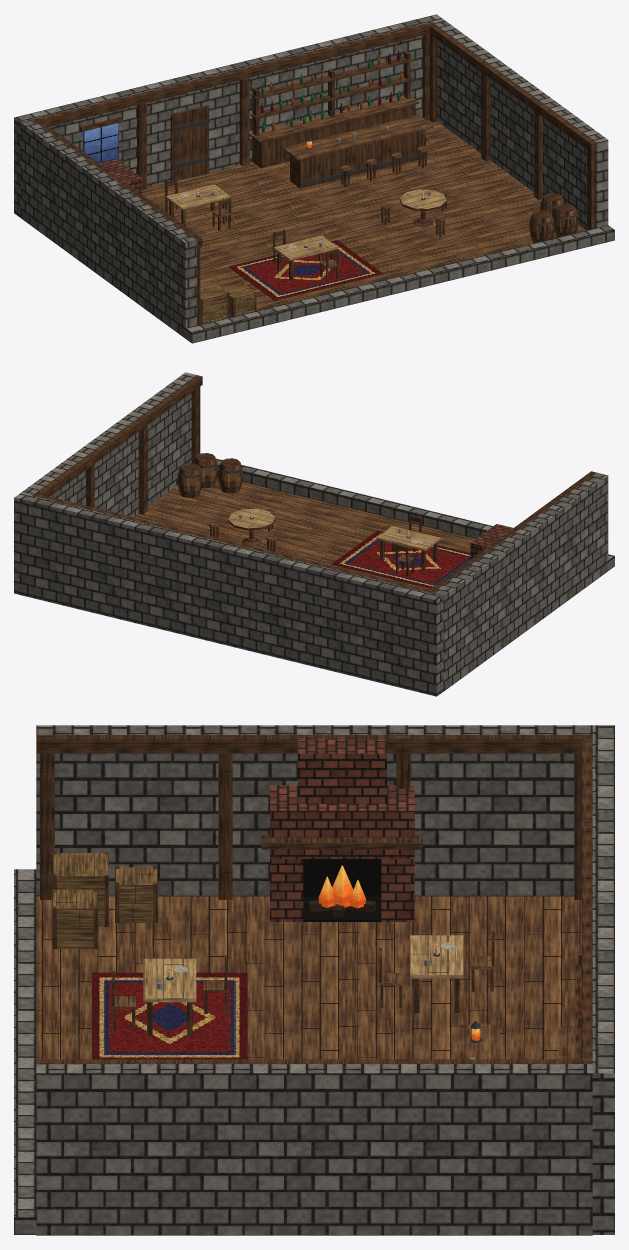
File: world.glb
The picture shows the model from 3 angles, top to bottom: view 1: azimuth 30°, elevation 25°; view 2: azimuth 150°, elevation 25°; view 3: azimuth 270°, elevation 25°; orthographic projection. The views are drawn at different scales.
Parts seen in each view (by area): view 1: Floor, Wall_W, Wall_N, Beams, Wall_E, Wall_S, BackShelf, BarCounter, Rug, Door, Window, Bottles (+8 smaller); view 2: Wall_N, Wall_W, Floor, Wall_E, Beams, Wall_S, Rug, Table_B, Table_C, Barrel_1, Barrel_2, Fireplace (+1 smaller); view 3: Wall_E, Floor, Wall_W, Fireplace, Beams, Wall_N, Rug, Wall_S, Crate_1, Table_B, Table_A, Crate_0 (+4 smaller).
Part boxes in pixels (<box>): Floor: <box>142,121,585,310</box>; Wall_W: <box>20,119,196,338</box>; Wall_N: <box>14,14,442,217</box>; Beams: <box>32,22,596,325</box>; Wall_E: <box>432,19,608,230</box>; Wall_S: <box>185,225,614,343</box>; BackShelf: <box>249,50,419,168</box>; BarCounter: <box>283,115,432,188</box>; Rug: <box>228,240,382,300</box>; Door: <box>170,105,209,180</box>; Window: <box>80,116,123,163</box>; Bottles: <box>260,50,402,132</box>; Wall_N: <box>14,493,443,696</box>; Wall_W: <box>432,472,608,691</box>; Floor: <box>134,477,475,589</box>; Wall_E: <box>21,372,196,517</box>; Beams: <box>32,375,596,593</box>; Wall_S: <box>216,458,614,570</box>; Rug: <box>331,530,470,588</box>; Table_B: <box>376,526,440,570</box>; Table_C: <box>228,508,275,546</box>; Barrel_1: <box>217,458,243,493</box>; Barrel_2: <box>177,463,202,497</box>; Fireplace: <box>470,524,517,559</box>; Wall_E: <box>36,1064,592,1234</box>; Floor: <box>36,896,592,1235</box>; Wall_W: <box>36,725,592,896</box>; Fireplace: <box>261,735,422,921</box>; Beams: <box>36,735,592,1063</box>; Wall_N: <box>592,725,614,1234</box>; Rug: <box>92,972,247,1059</box>; Wall_S: <box>14,869,36,1234</box>; Crate_1: <box>52,889,97,949</box>; Table_B: <box>143,958,196,1035</box>; Table_A: <box>410,935,463,1012</box>; Crate_0: <box>52,852,108,926</box>.
Size of the model in its own units: 14.8 by 3.4 by 10.8.
19 materials, 19 textured.
